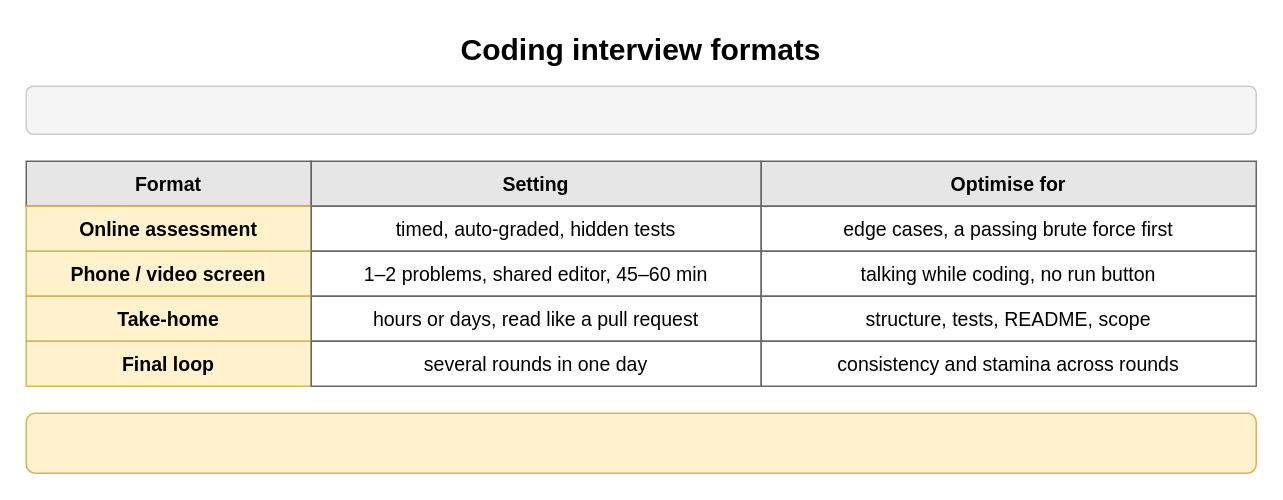
Image size: 1283x500. Some labels were removed from this diagram. Here are the shapes that lost their labels. From the top down, the box of each, then its label:
(25, 85, 1256, 134): same skills, different scoring: match your practice to the format
(25, 412, 1256, 473): Ask the recruiter: format, language, editor, and whether the code is executed.
